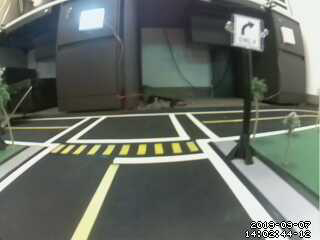Right_only_sign: (233, 14, 262, 48)
